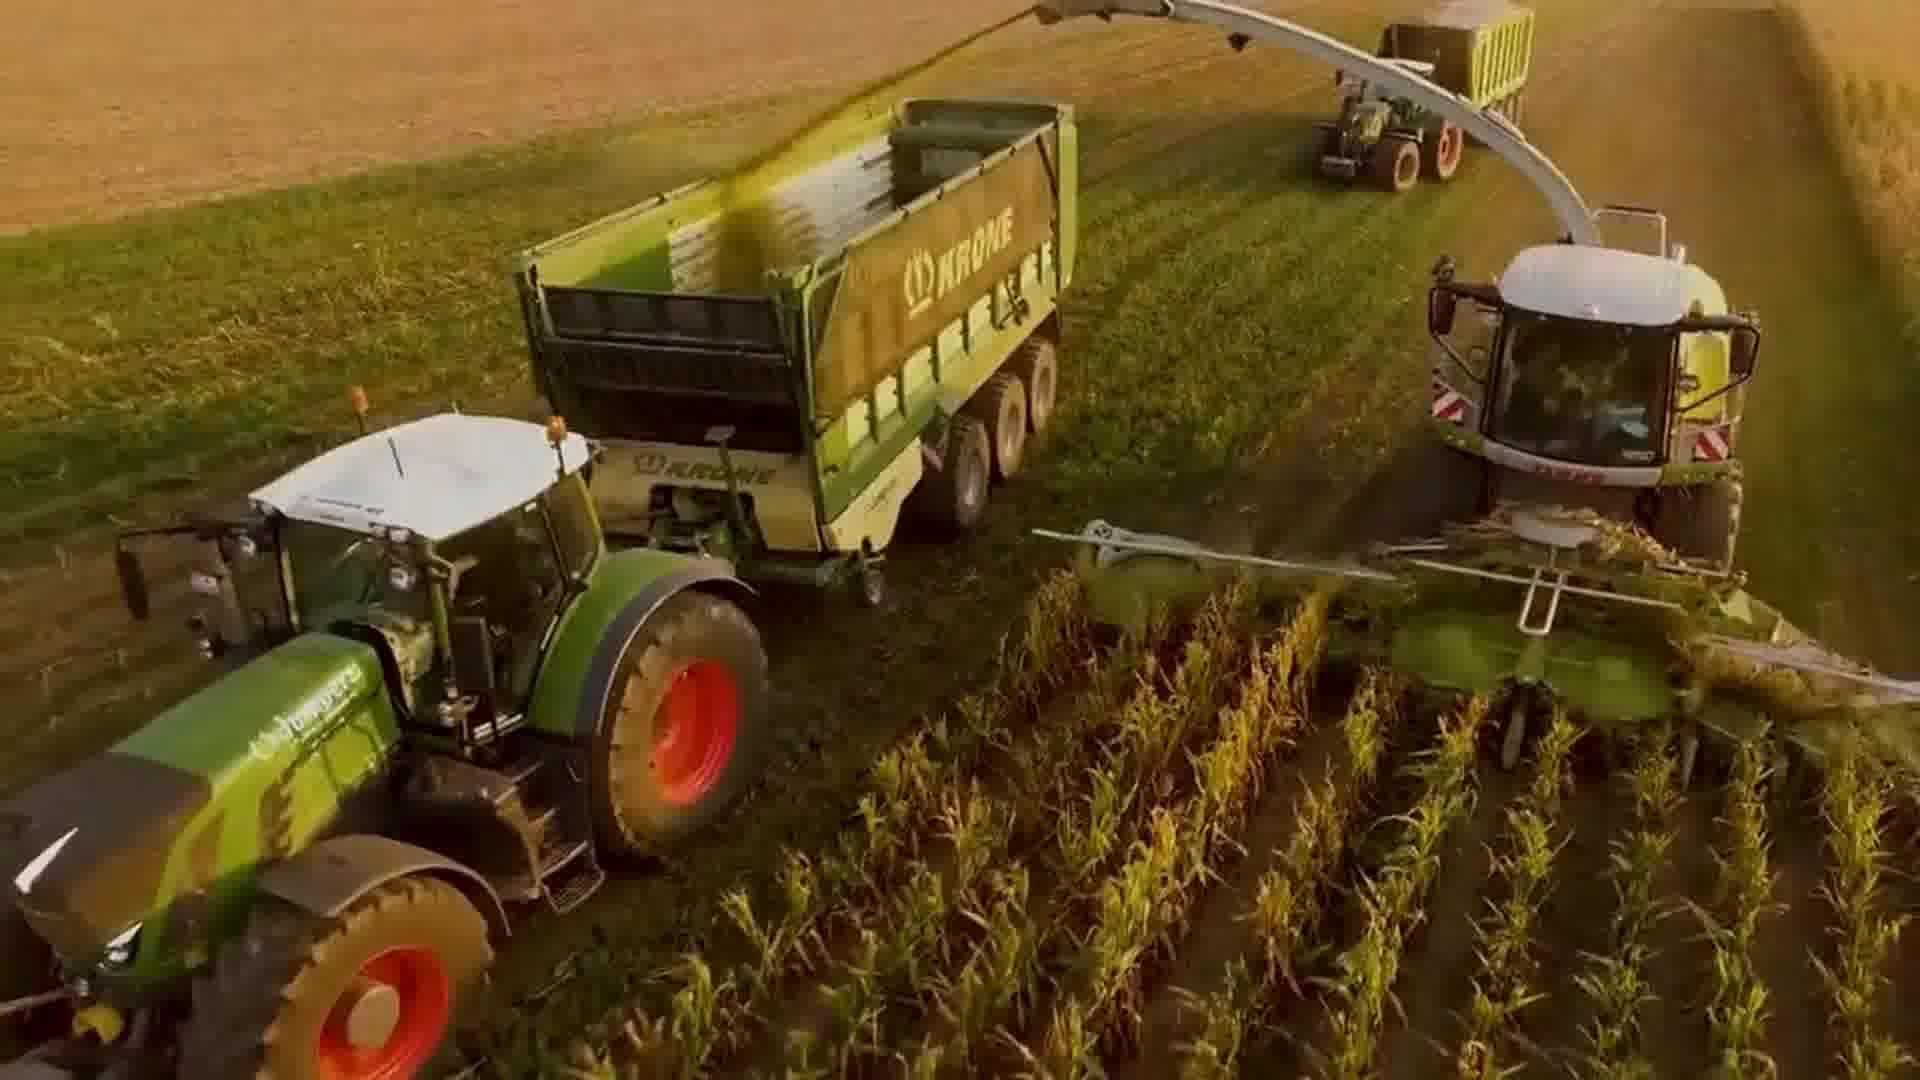tractor: (0, 374, 787, 1080), (1300, 53, 1466, 196)
trailer: (529, 83, 1089, 584), (1378, 0, 1541, 151)
